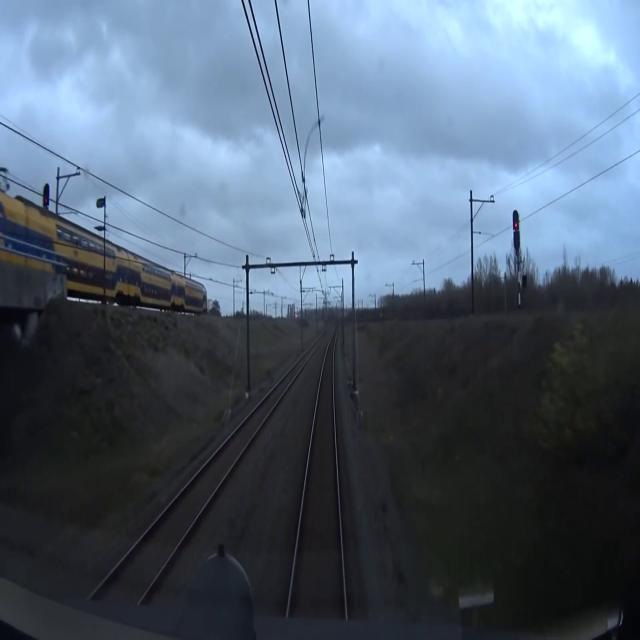rail-track: (57, 351, 310, 639), (287, 331, 344, 639)
